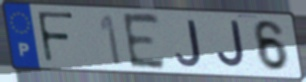1: (98, 13, 123, 68)
6: (251, 18, 292, 74)
E: (120, 12, 168, 71)
F: (35, 9, 77, 66)
J: (215, 19, 249, 71), (174, 19, 204, 68)
